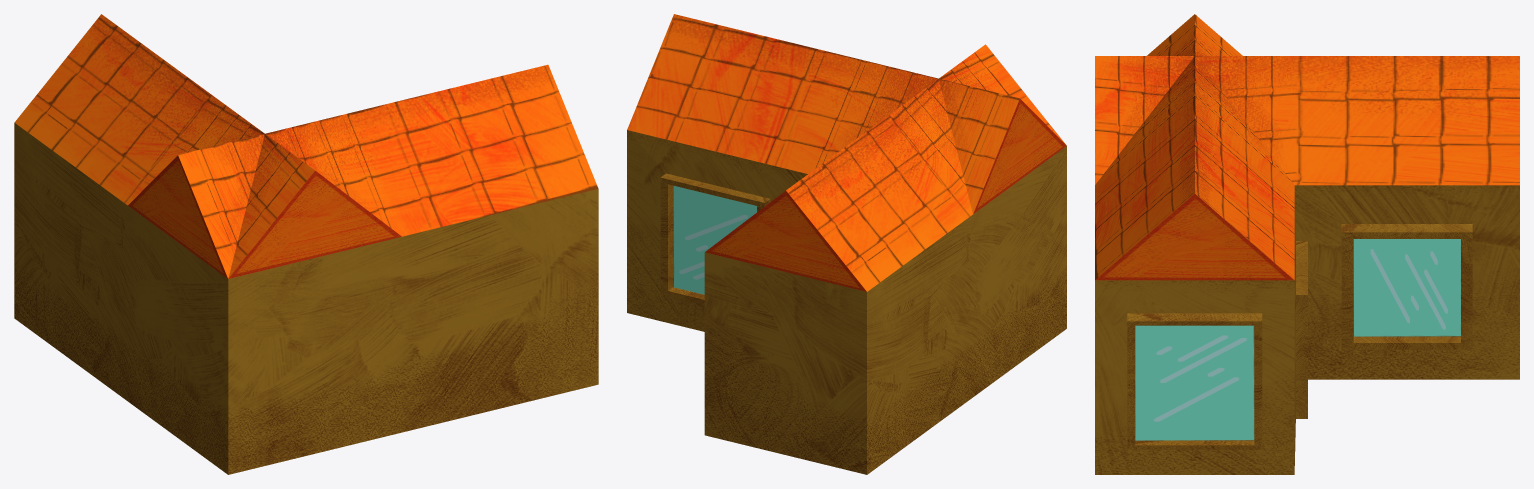
File: Worker's House Lvl1.fbx
3 renders of one model, left to right at view 1: azimuth 30°, elevation 25°; view 2: azimuth 150°, elevation 25°; view 3: azimuth 270°, elevation 25°, orthographic. The views are drawn at different scales.
Visible parts, largest first — view 1: WorkerHouse; view 2: WorkerHouse; view 3: WorkerHouse.
Boxes of the visible parts, bbox=[...] form: WorkerHouse: bbox=[14, 14, 598, 474]; WorkerHouse: bbox=[627, 14, 1066, 474]; WorkerHouse: bbox=[1095, 14, 1519, 474].
Bounding box in the file's own units: 971 × 680 × 930.
